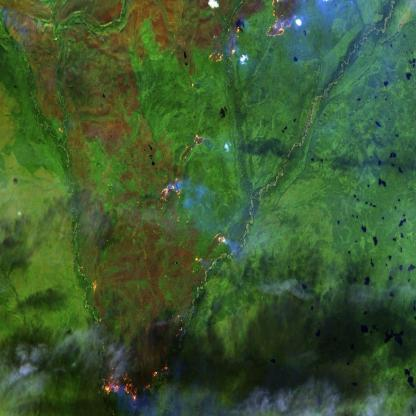fire: (204, 0, 291, 77), (159, 128, 210, 208), (98, 363, 177, 407), (193, 224, 232, 276)
